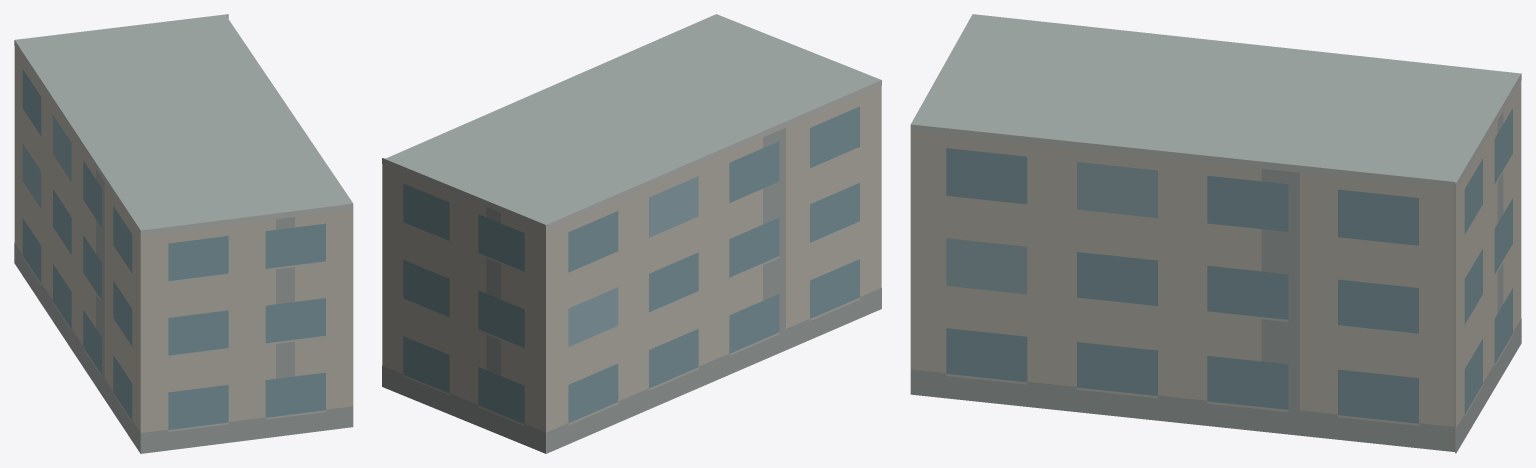
The model's file is survey-upis-32527873.glb.
3 views of the same model, side by side, from view 1: azimuth 30°, elevation 25°; view 2: azimuth 150°, elevation 25°; view 3: azimuth 270°, elevation 25° (orthographic). The views are drawn at different scales.
Visible parts, largest first — view 1: survey-upis-32527873.tmp; view 2: survey-upis-32527873.tmp; view 3: survey-upis-32527873.tmp.
Part boxes in pixels (x1=…): survey-upis-32527873.tmp: x1=14, y1=14, x2=353, y2=453; survey-upis-32527873.tmp: x1=382, y1=14, x2=881, y2=453; survey-upis-32527873.tmp: x1=910, y1=14, x2=1521, y2=453.
Size of the model in its own units: 12.34 by 9.15 by 18.76.
